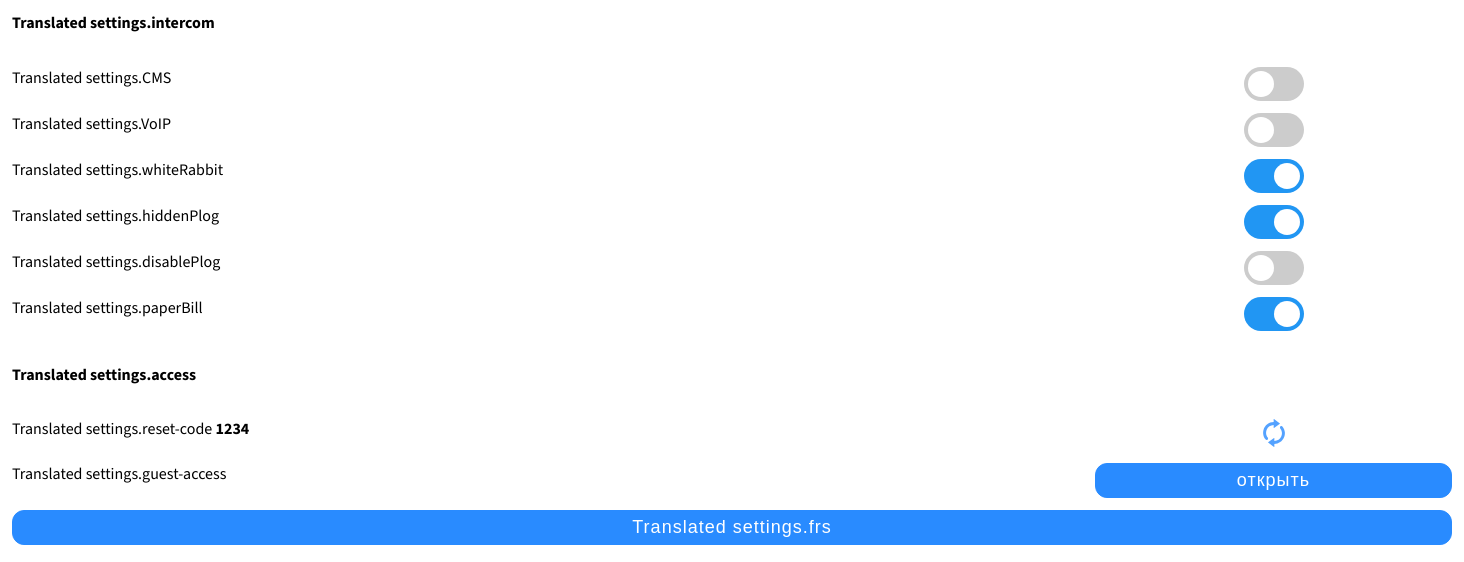
Scenario: FlatSettings › regenerates code when regenerate button is clicked
What coordinates should you click on to do the following:
click the button with class "reset"
I would click on:
 (1274, 435)
Its box is [1095,418,1452,451].
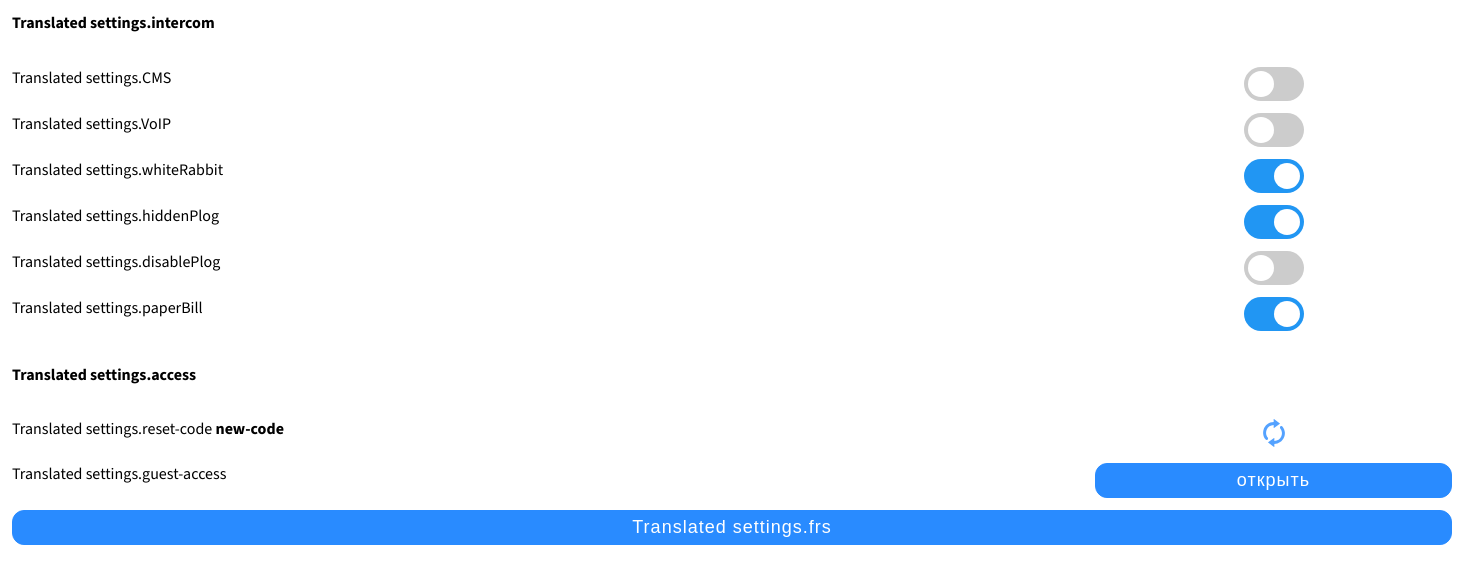
Expected: the text "new-code" is shown, [216,418,284,439]
